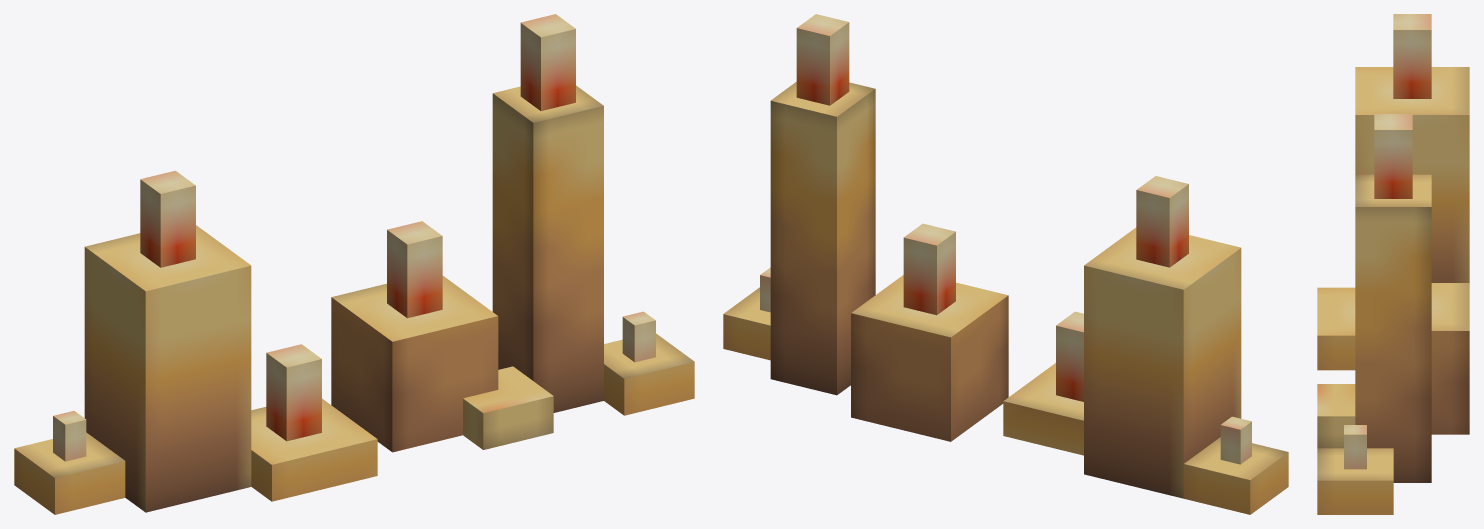
The model's file is candle_arrangement_01_lit.fbx.
The picture shows the model from 3 angles, left to right: view 1: azimuth 30°, elevation 25°; view 2: azimuth 150°, elevation 25°; view 3: azimuth 270°, elevation 25°; orthographic projection. The views are drawn at different scales.
Visible parts, largest first — view 1: candle_arrangement_01_lit; view 2: candle_arrangement_01_lit; view 3: candle_arrangement_01_lit.
Boxes of the visible parts, box(x1,y1,x2,y2) form: candle_arrangement_01_lit: box(14, 14, 694, 514); candle_arrangement_01_lit: box(723, 14, 1288, 514); candle_arrangement_01_lit: box(1317, 14, 1469, 514).
Bounding box in the file's own units: 17 × 10 × 4.
